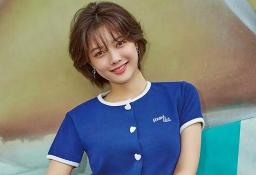face: (88, 24, 136, 83)
